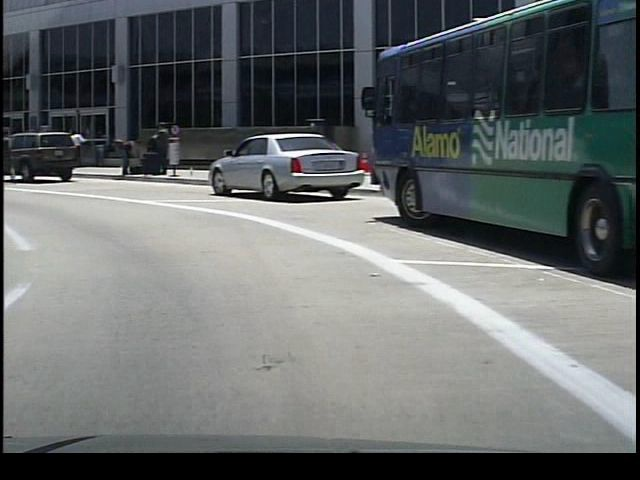person: (108, 128, 138, 182), (146, 121, 167, 176), (65, 125, 85, 168)
